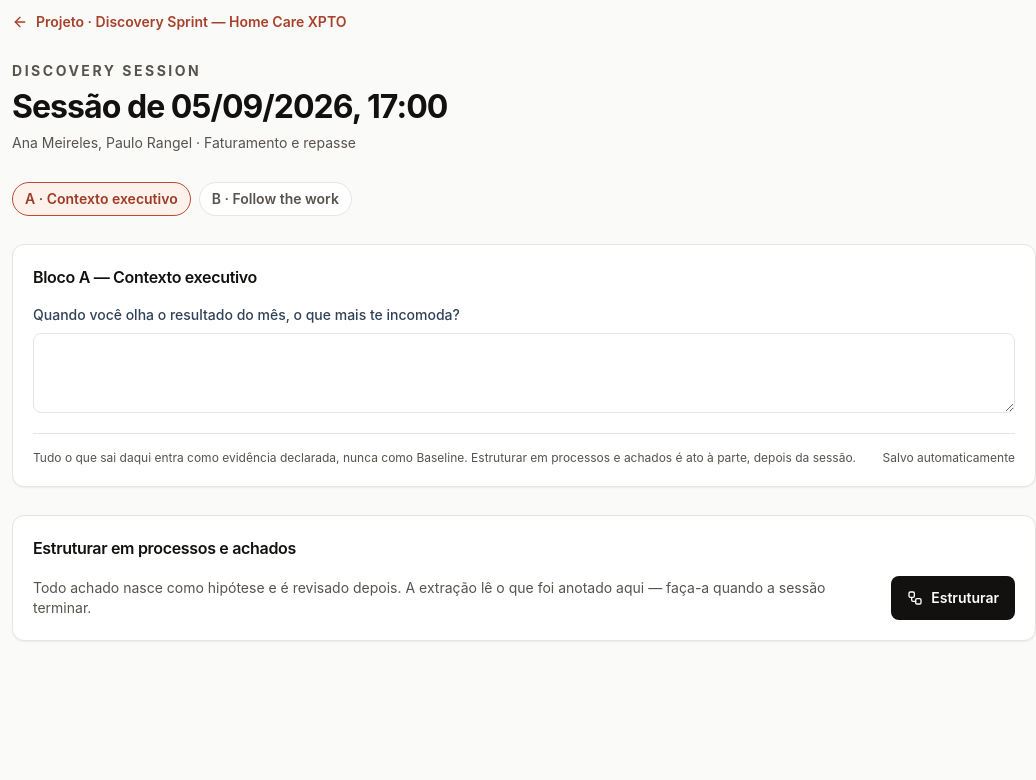
Test case: quando falha, a tela diz a última versão salva, devolve o botão e não descarta o texto
Expected: the heading "Sessão de 05/09/2026, 17:00" is shown, [12,87,447,126]
Type "Atrasa." into the text box labelled "Quando você olha o resultado do mês, o que mais te incomoda?".
click(524, 373); type("Atrasa.")  # box [33,333,1015,413]
Wait 2000 ms
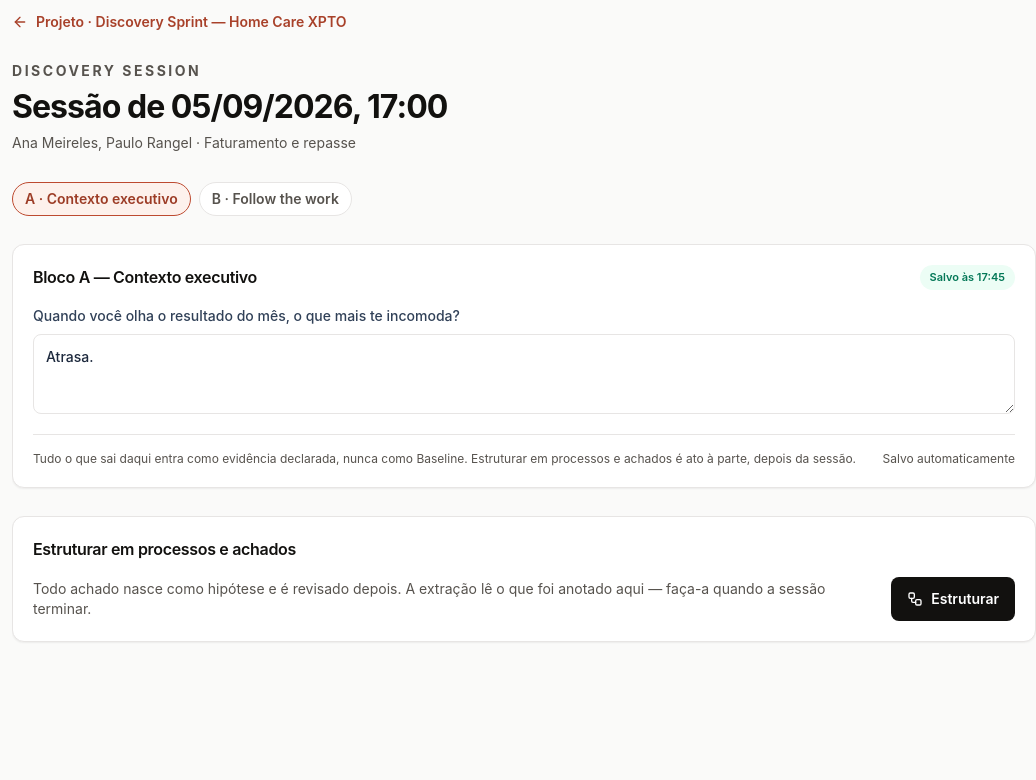
Replace the text in the text box labelled "Quando você olha o resultado do mês, o que mais te incomoda?" with "Atrasa. Muito." at x=524, y=374, box [33,334,1015,414]
Wait 2000 ms
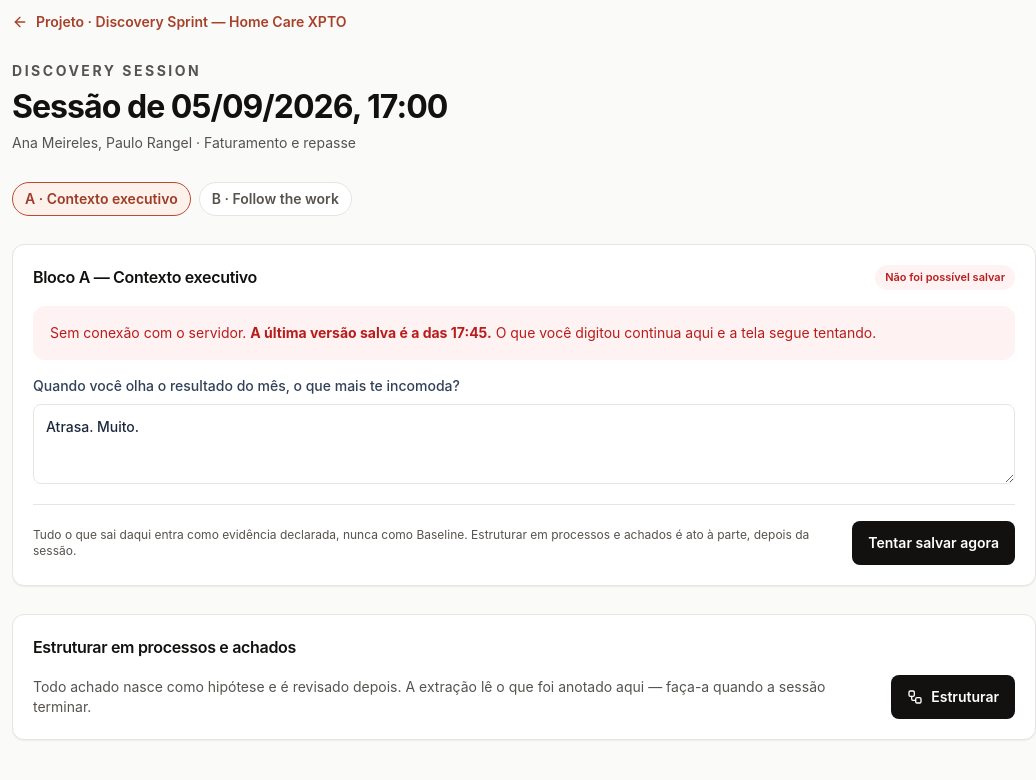
Expected: the message shows "Sem conexão com o servidor.", [50,324,246,340]
Expected: the message shows "O que você digitou continua aqui e a tela segue tentando.", [496,324,876,340]
Expected: the text "Não foi possível salvar" is shown, [875,265,1015,290]
